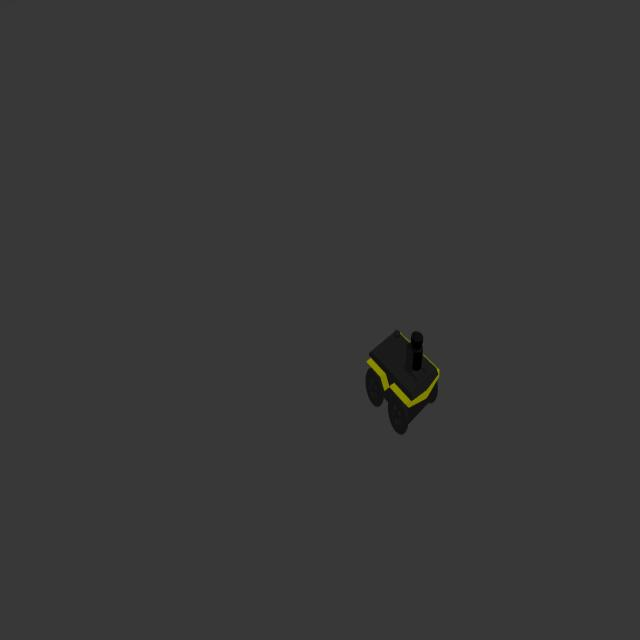jackal: (367, 327, 439, 437)
